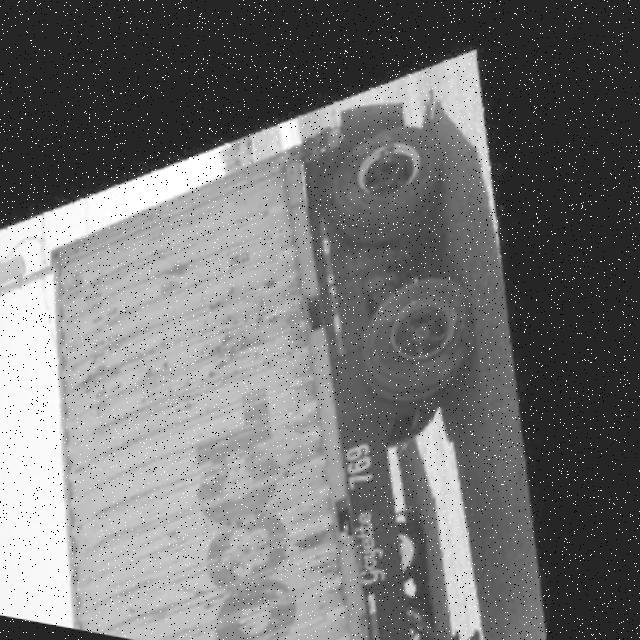rust: (66, 173, 233, 409), (206, 240, 358, 405)
